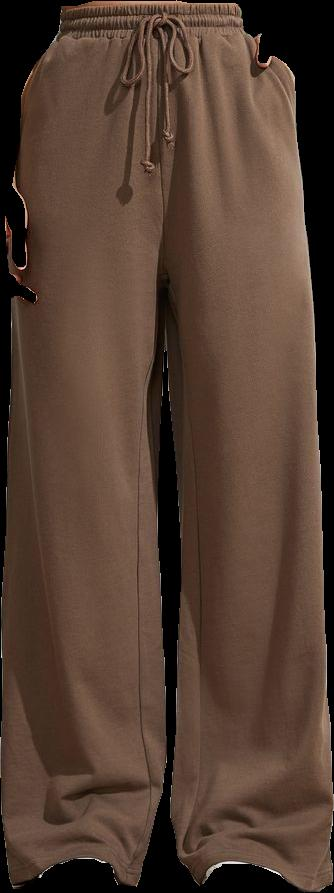Hemline: (194, 852, 333, 892), (10, 849, 141, 890)
Pantleg: (163, 0, 332, 890), (1, 0, 167, 887)
Waistline: (55, 21, 246, 42), (60, 0, 239, 16)
